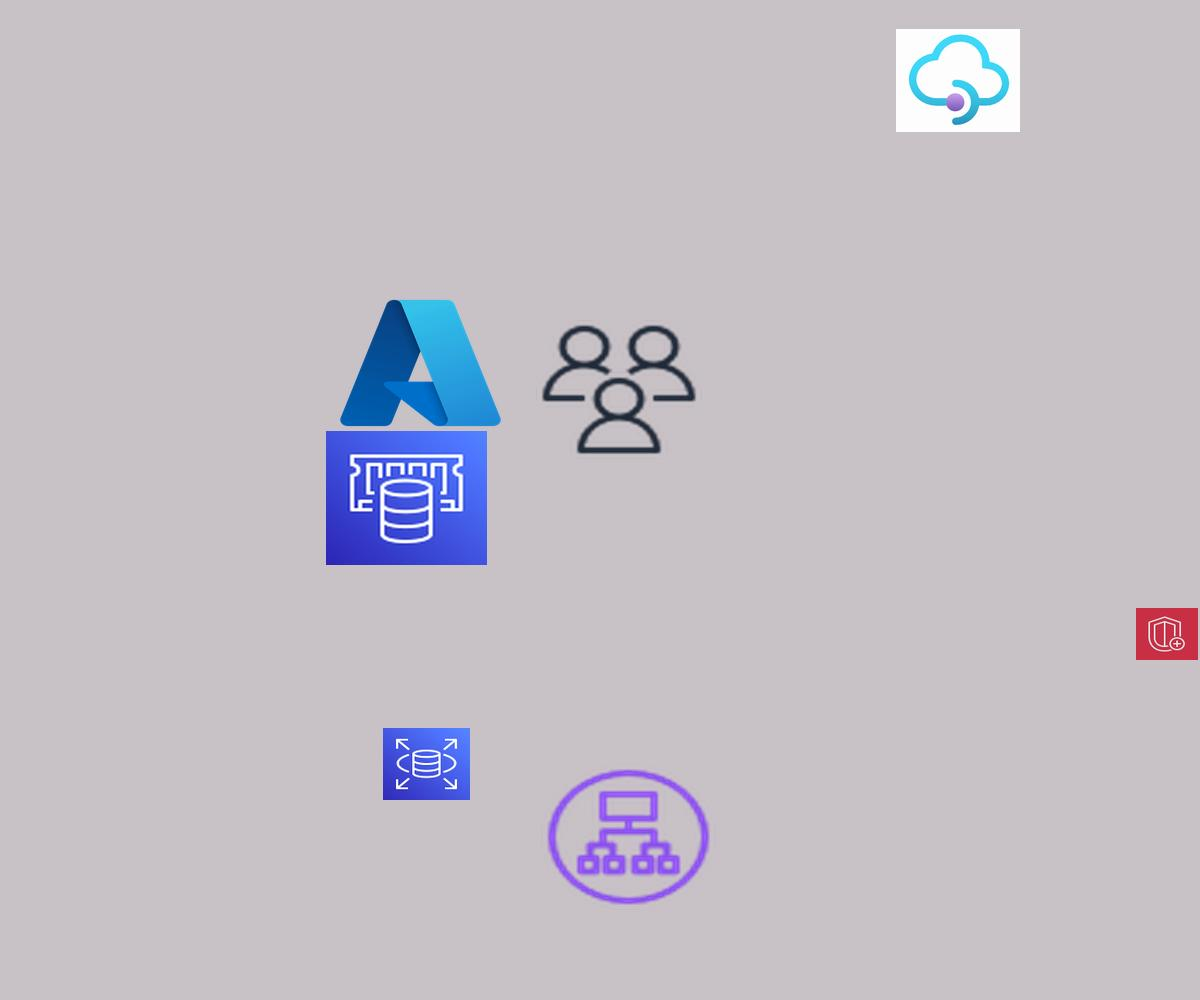AWS-ElastiCache: (326, 431, 487, 565)
AWS-RDS: (383, 728, 470, 800)
AWS-Res_Elastic-Load-Balancing_Application-Load-Balancer: (541, 764, 716, 910)
AWS-Res_Users: (536, 320, 702, 459)
AWS-Shield: (1136, 608, 1198, 660)
Azure_api_gateway: (896, 29, 1020, 132)
Azure_services: (333, 290, 508, 436)
